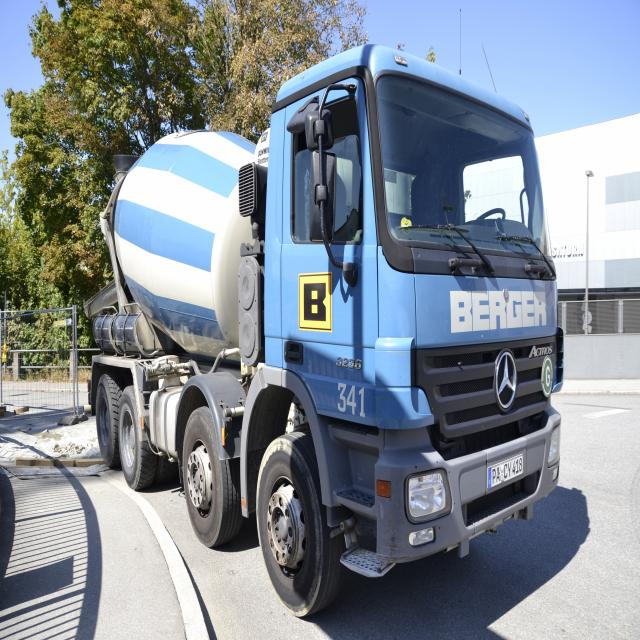Mixer Truck: (83, 43, 564, 620)
